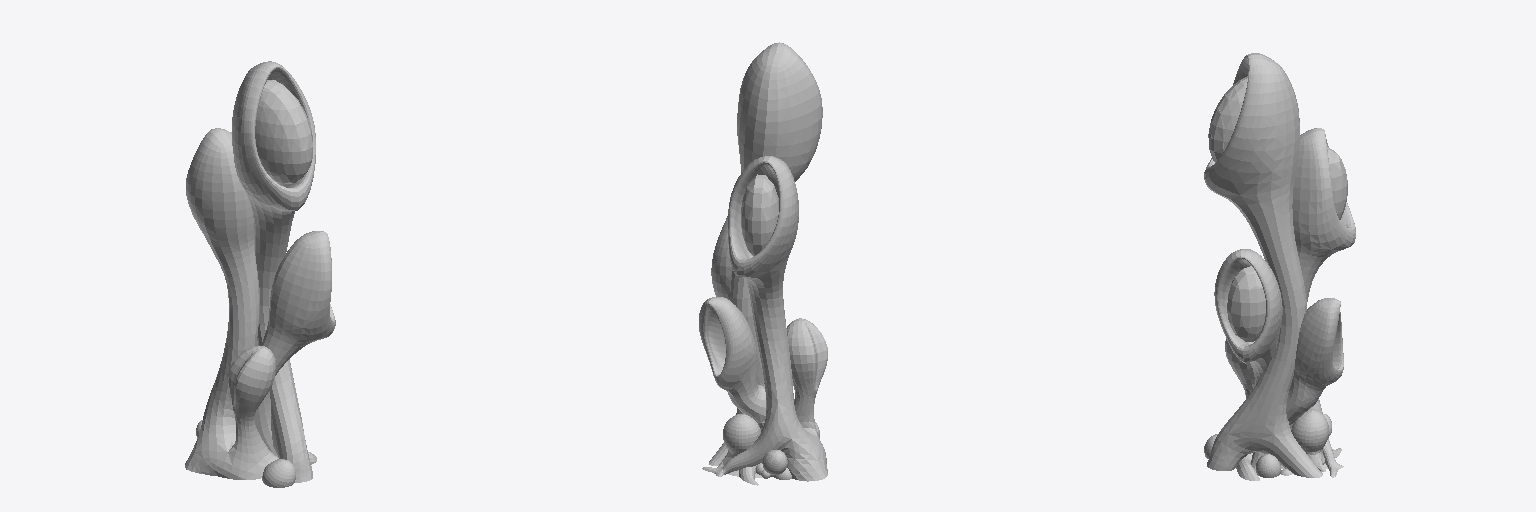
File: tree2.obj
3 renders of one model, left to right at view 1: azimuth 30°, elevation 25°; view 2: azimuth 150°, elevation 25°; view 3: azimuth 270°, elevation 25°, orthographic.
Parts seen in each view (by area): view 1: AlienPlant01, Mball; view 2: AlienPlant01, Mball; view 3: AlienPlant01, Mball.
Boxes of the visible parts, x1=… form: AlienPlant01: x1=185, y1=61, x2=335, y2=487; Mball: x1=255, y1=80, x2=312, y2=183; AlienPlant01: x1=699, y1=42, x2=827, y2=485; Mball: x1=741, y1=174, x2=778, y2=256; AlienPlant01: x1=1204, y1=53, x2=1355, y2=480; Mball: x1=1208, y1=76, x2=1347, y2=341.
Bounding box in the file's own units: 9.84 × 29.78 × 10.14.